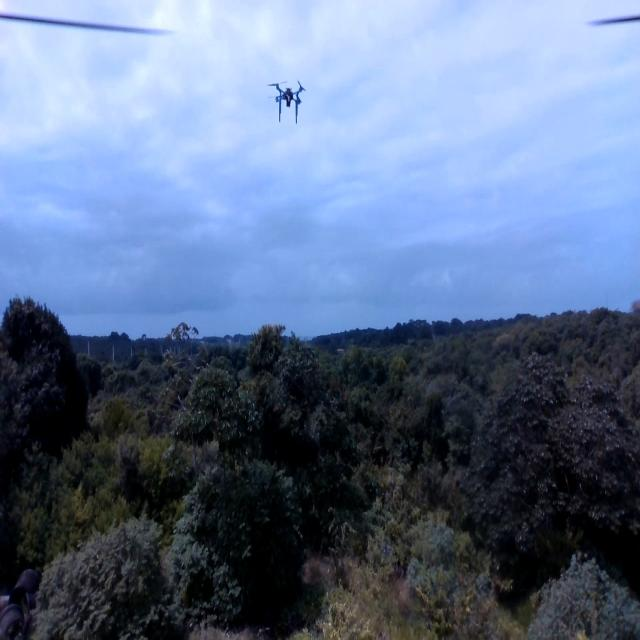-uav-: (268, 71, 310, 129)
